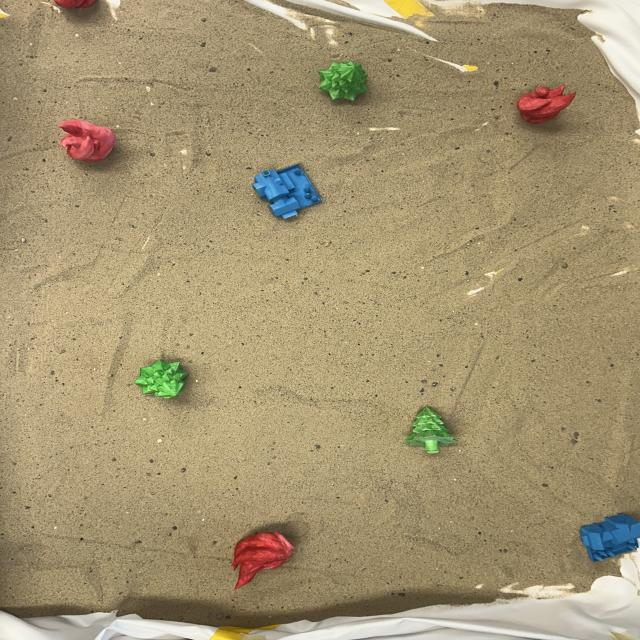fire: (229, 530, 295, 590), (515, 82, 577, 124), (57, 118, 116, 162)
house: (250, 162, 324, 220), (578, 511, 640, 566)
tree: (404, 406, 458, 454), (132, 358, 189, 399), (320, 60, 369, 104)
